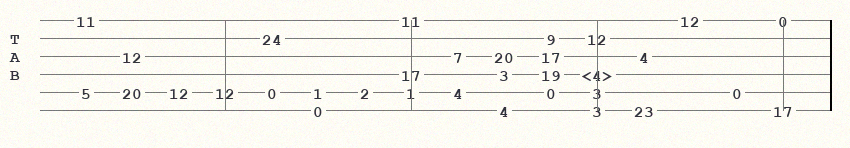0: (267, 85, 281, 99), (313, 103, 327, 117), (546, 85, 560, 99), (732, 85, 746, 99), (778, 13, 792, 27)
1: (313, 85, 327, 99), (406, 85, 420, 99)
11: (76, 13, 100, 27), (401, 13, 425, 27)
12: (122, 49, 146, 63), (169, 85, 193, 99), (215, 85, 239, 99), (587, 31, 611, 45), (680, 13, 704, 27)
17: (401, 67, 425, 81), (541, 49, 565, 63), (773, 103, 797, 117)
19: (541, 67, 565, 81)
2: (360, 85, 374, 99)
20: (122, 85, 146, 99), (494, 49, 518, 63)
23: (634, 103, 658, 117)
24: (262, 31, 286, 45)
3: (499, 67, 513, 81), (592, 103, 606, 117), (592, 85, 606, 99)
4: (453, 85, 467, 99), (499, 103, 513, 117), (639, 49, 653, 63)
5: (81, 85, 95, 99)
7: (453, 49, 467, 63)
9: (546, 31, 560, 45)
harmonic: (582, 67, 617, 81)
